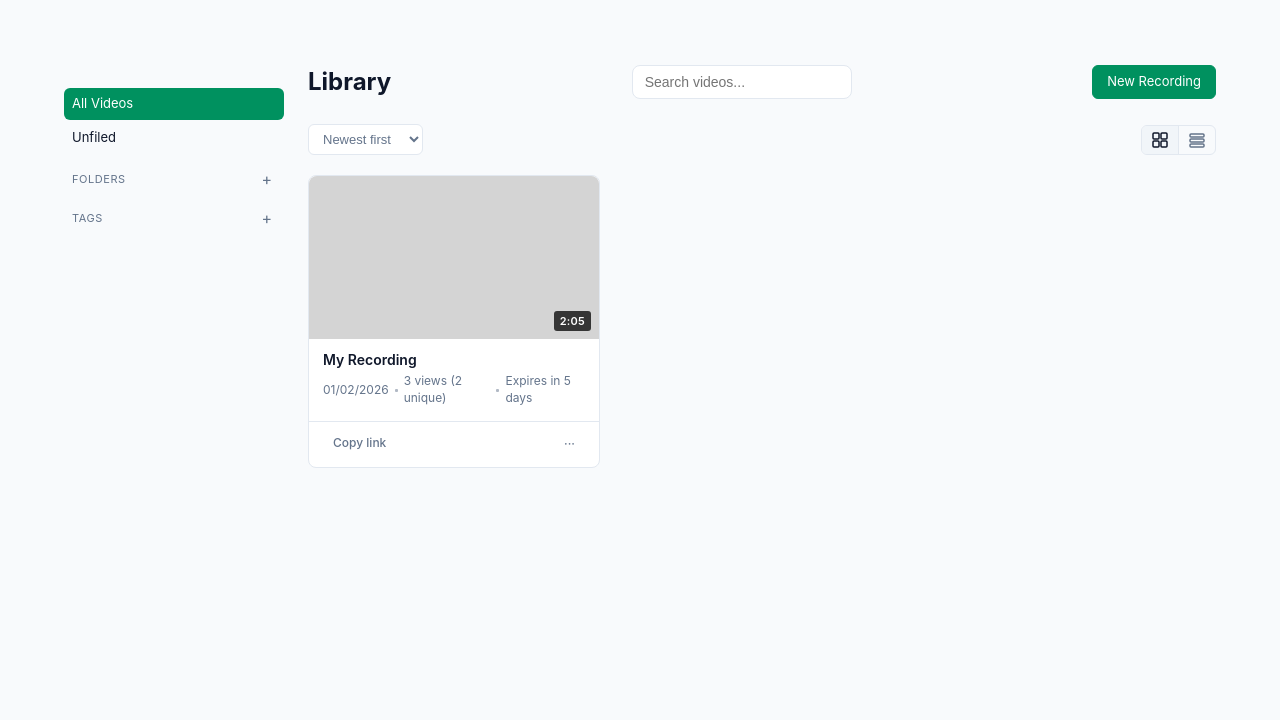
Test case: Library › shows toast after copying link
Step 1. Click the button "Copy link" → (360, 443), box [323,430,396,456]
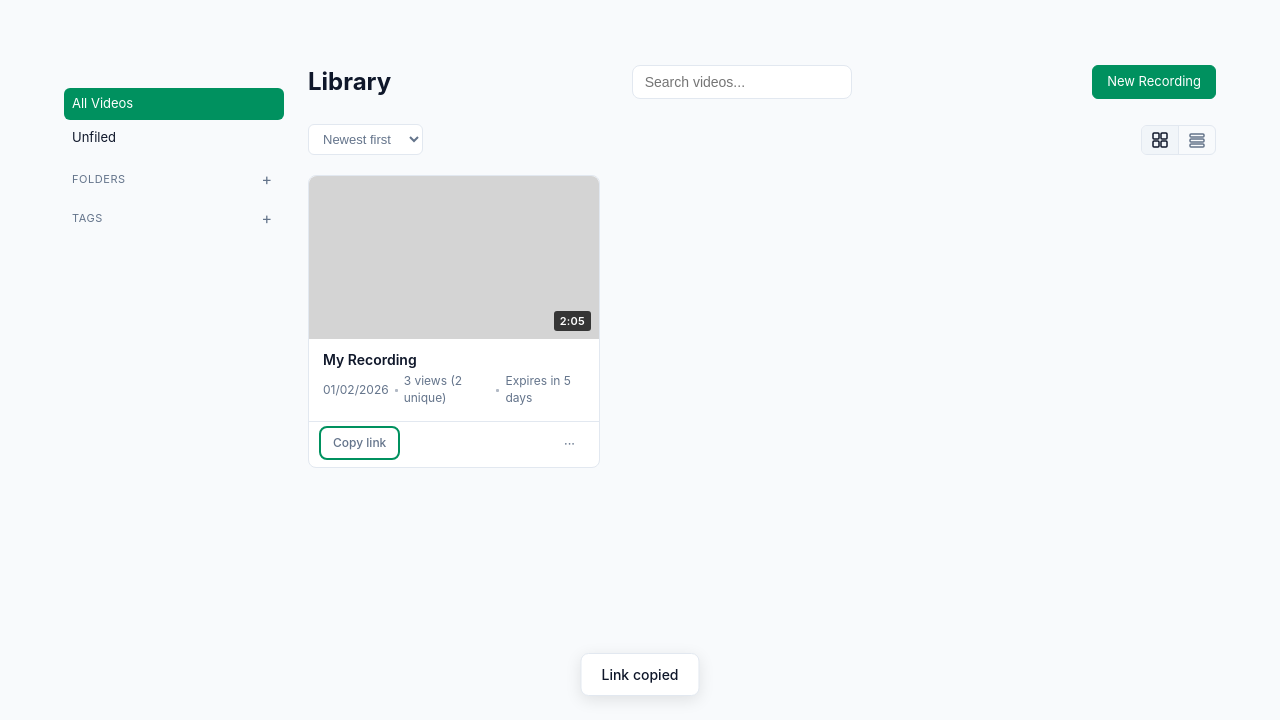
Check: the text "Link copied" is shown, box [580,653,700,696]
